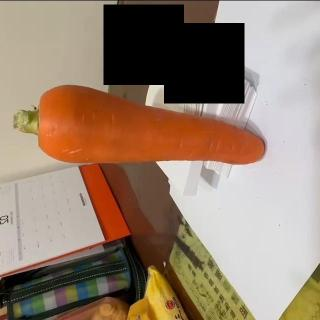carrot: (12, 82, 266, 171)
